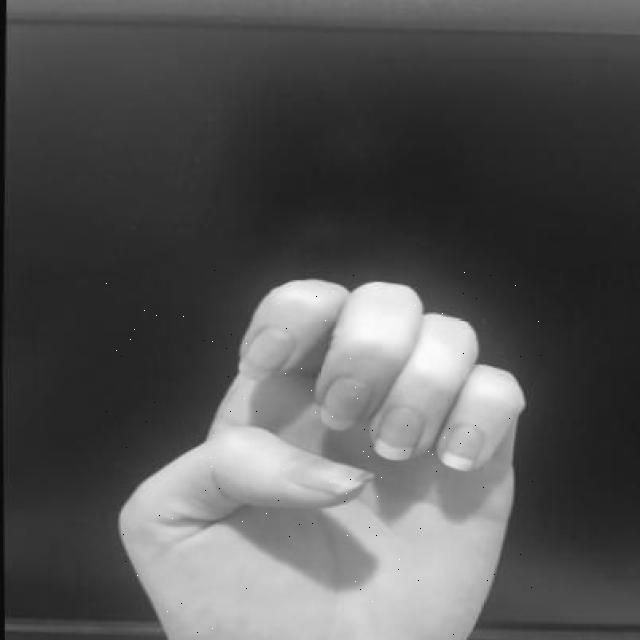E: (105, 269, 541, 638)
